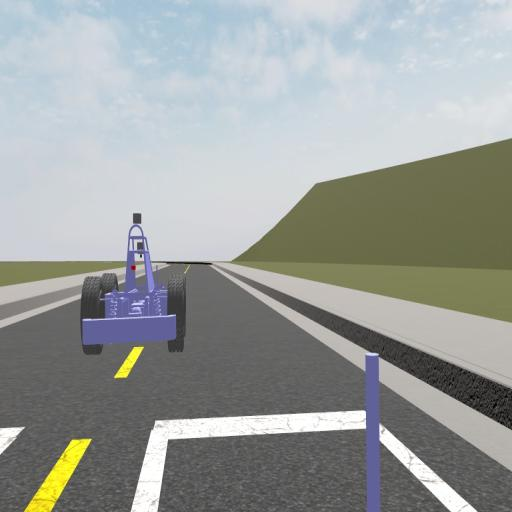ERP-42: (81, 211, 187, 356)
